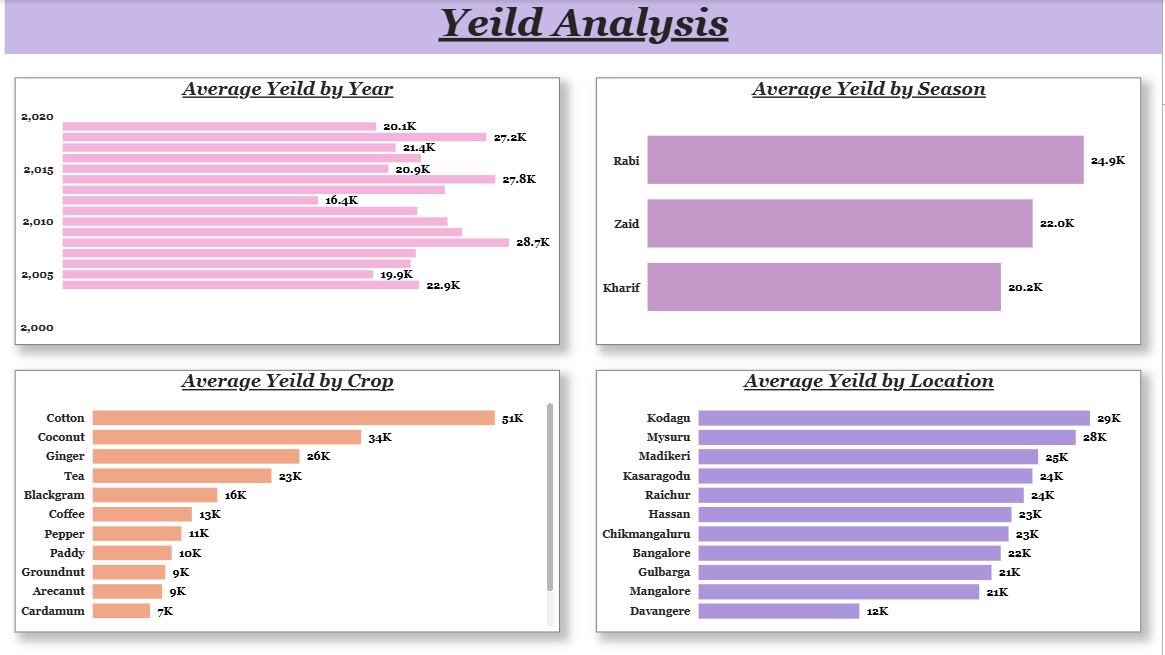

The page's visual inventory and layout, read from the dashboard file:
{"tool":"powerbi","page":{"name":"Yeilds Analysis","canvas":[1280,720],"ordinal":3},"visuals":[{"type":"shape","title":"Yeild Analysis","box":[9.6,0,1270.7,59],"z":0},{"type":"barChart","title":"Average Yeild by Year","fields":{"Category":["AGRICULTURE.YEAR"],"Y":["Avg(AGRICULTURE.YEILDS)"]},"box":[20.6,85.1,598.3,293.7],"z":1000},{"type":"barChart","title":"Average Yeild by Season","fields":{"Category":["AGRICULTURE.SEASON"],"Y":["Avg(AGRICULTURE.YEILDS)"]},"box":[658.7,85.1,598.3,293.7],"z":2000},{"type":"barChart","title":"Average Yeild by Crop","fields":{"Category":["AGRICULTURE.CROPS"],"Y":["Avg(AGRICULTURE.YEILDS)"]},"box":[20.6,406.2,598.3,288.2],"z":3000},{"type":"barChart","title":"Average Yeild by Location","fields":{"Category":["AGRICULTURE.LOCATION"],"Y":["Avg(AGRICULTURE.YEILDS)"]},"box":[658.7,406.2,598.3,288.2],"z":4000}]}

Visuals, with their boxes in screenshot pixels (x1, y1, x2, y2), scaled from the page's 1280x720 canvas onto the 1165x655 screenshot:
"Yeild Analysis" shape: BBox(9, 0, 1164, 54)
"Average Yeild by Year" barChart: BBox(19, 77, 563, 345)
"Average Yeild by Season" barChart: BBox(600, 77, 1144, 345)
"Average Yeild by Crop" barChart: BBox(19, 370, 563, 632)
"Average Yeild by Location" barChart: BBox(600, 370, 1144, 632)
